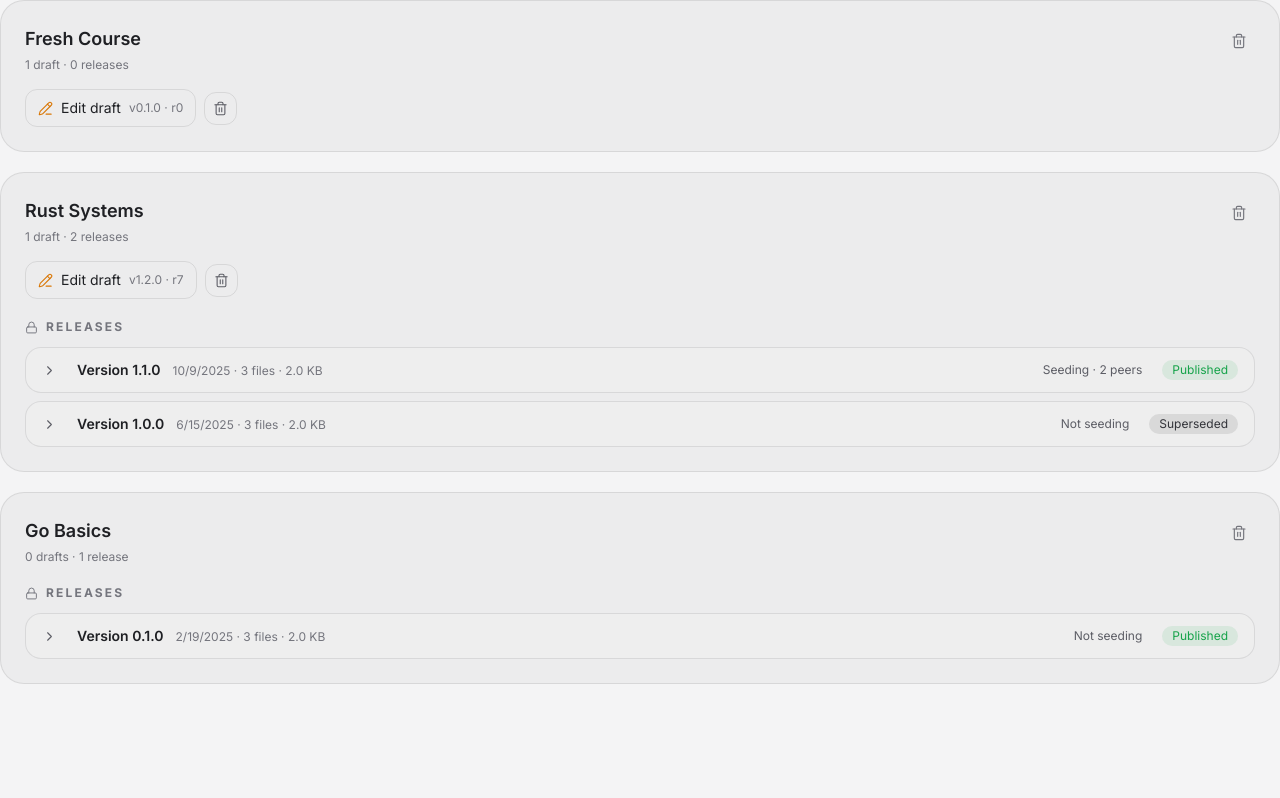
Scenario: course management › exports the torrent by release id and reports the outcome
What coordinates should you click on to do the following:
click the button "Version 1.1.0"
I would click on:
 (105, 370)
Its box is [26, 348, 1254, 392].
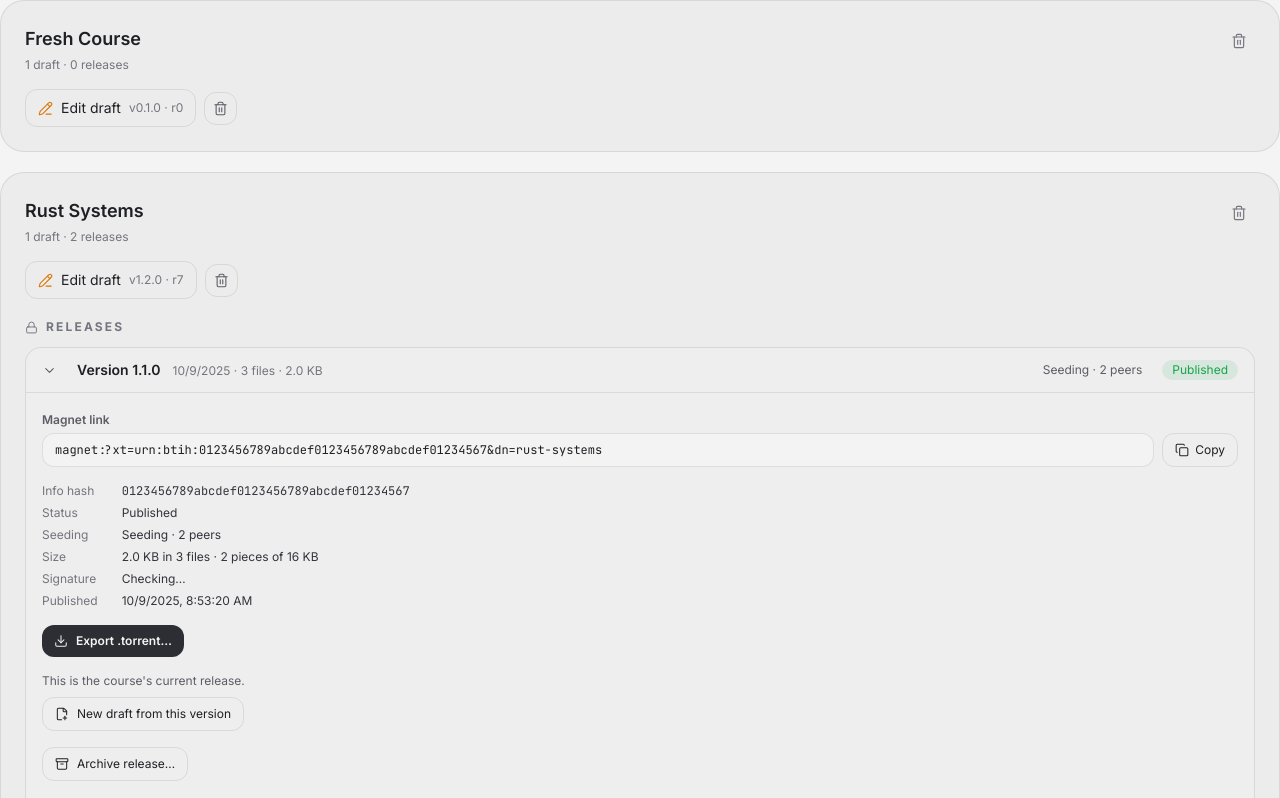
What coordinates should you click on to do the following:
click the button "Export .torrent…"
I would click on:
 (113, 641)
Its box is [42, 625, 184, 657].
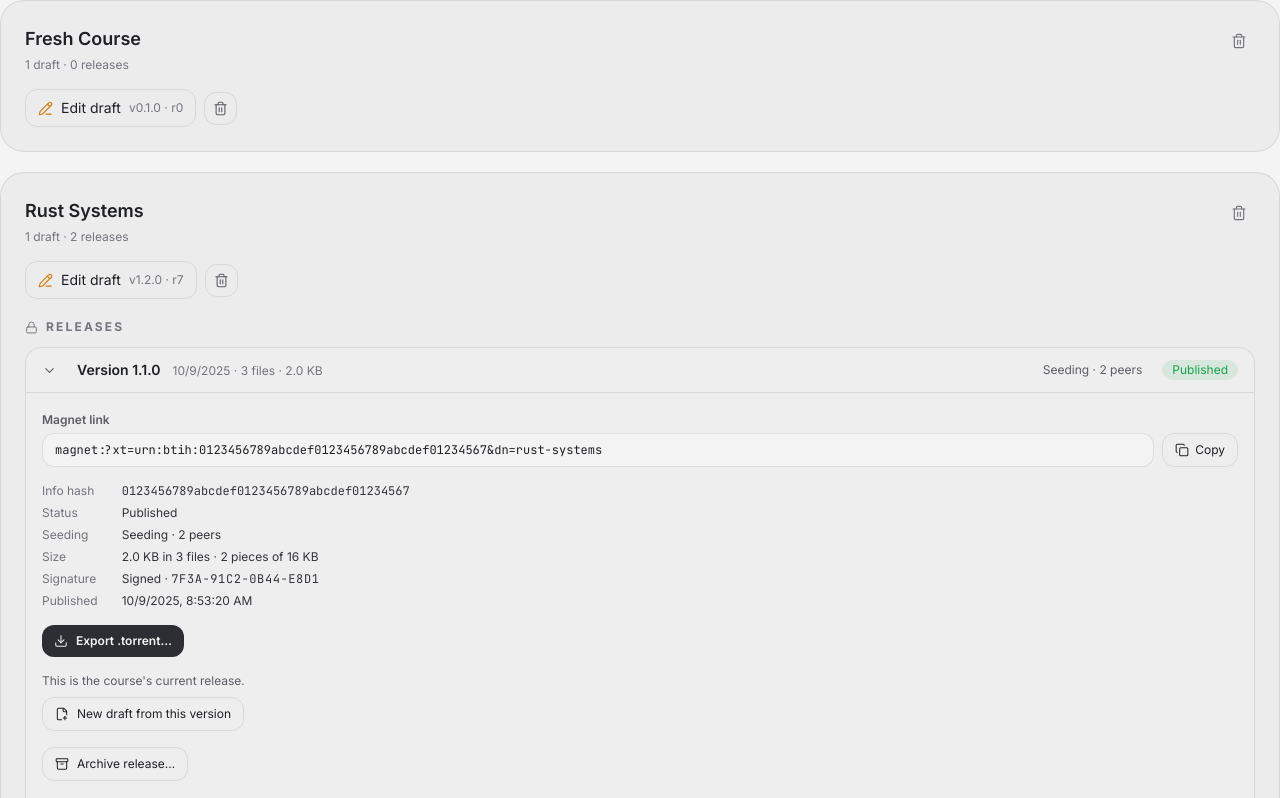
Expected: the list item "Rust Systems" does not show "Torrent file saved."
Expected: the button "Export .torrent…" is enabled
What coordinates should you click on to do the following:
click the button "Export .torrent…"
I would click on:
 (113, 641)
Its box is [42, 625, 184, 657].
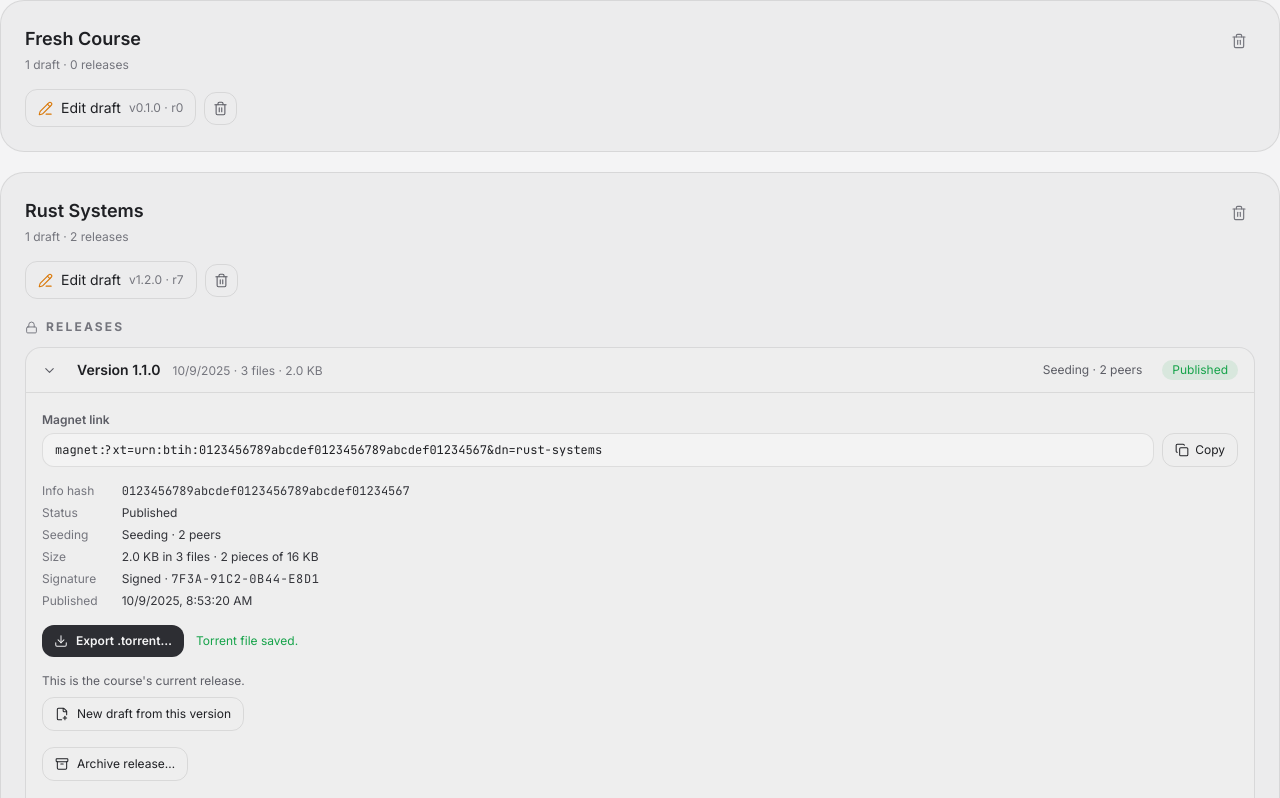
Expected: the list item "Rust Systems" shows "Torrent file saved.", [196, 633, 298, 648]
What coordinates should you click on to do the following:
click the button "Export .torrent…"
I would click on:
 (113, 641)
Its box is [42, 625, 184, 657].
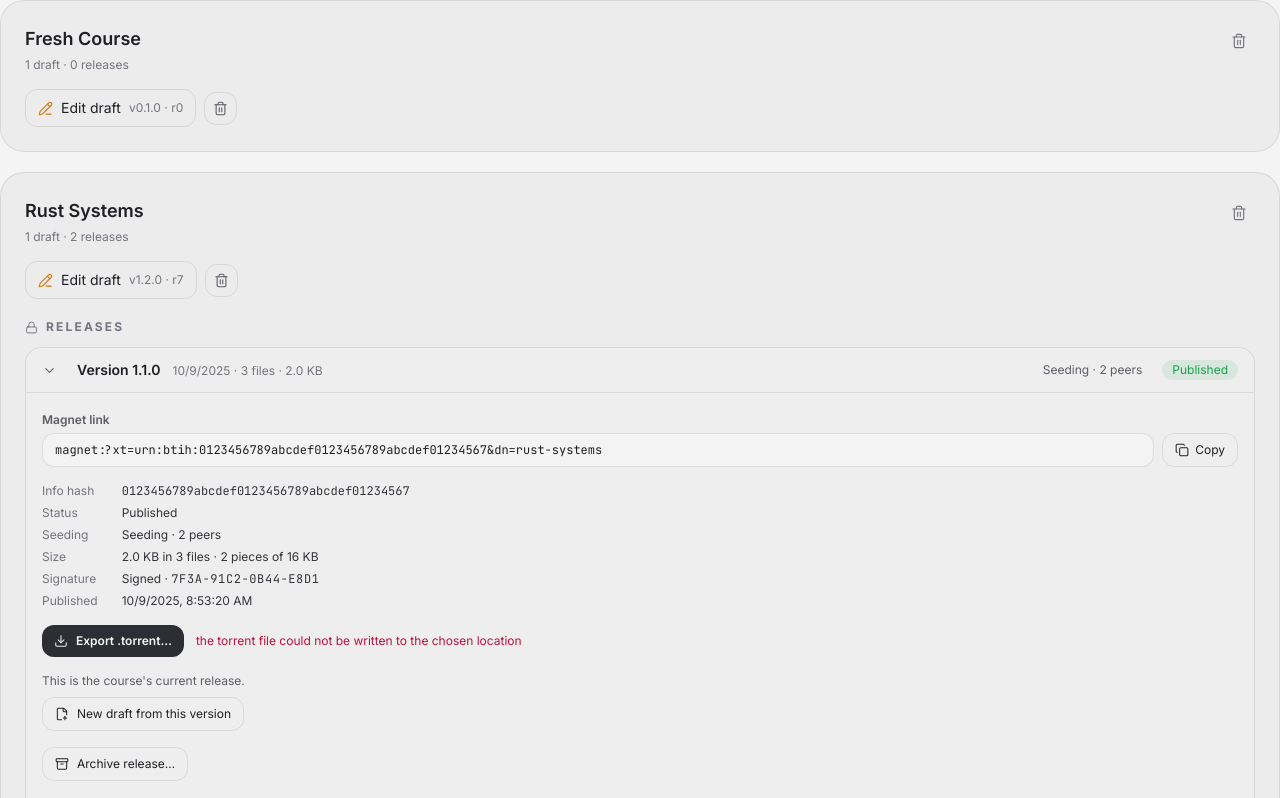
Expected: the message shows "could not be written", [196, 633, 522, 648]
